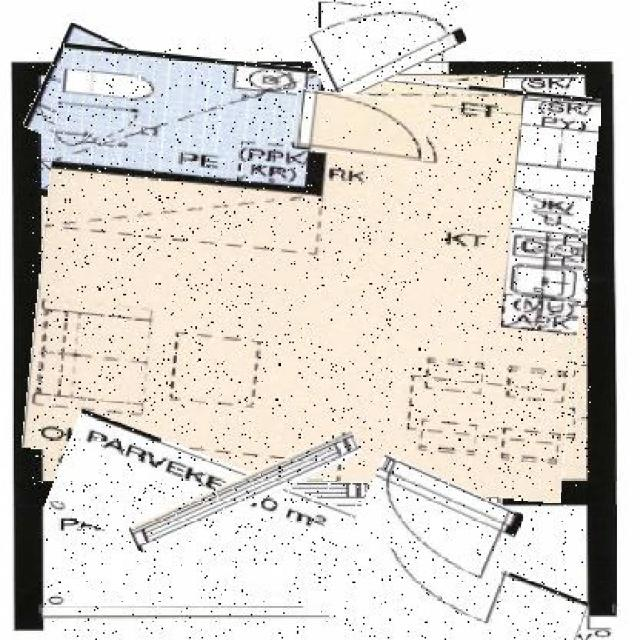door: (357, 468, 518, 578), (304, 0, 462, 89), (292, 91, 428, 160)
window: (128, 454, 364, 528)
zone: (32, 57, 591, 491), (45, 455, 586, 640), (29, 48, 303, 210)
